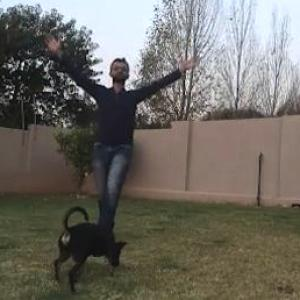takeoff: (0, 8, 203, 249)
